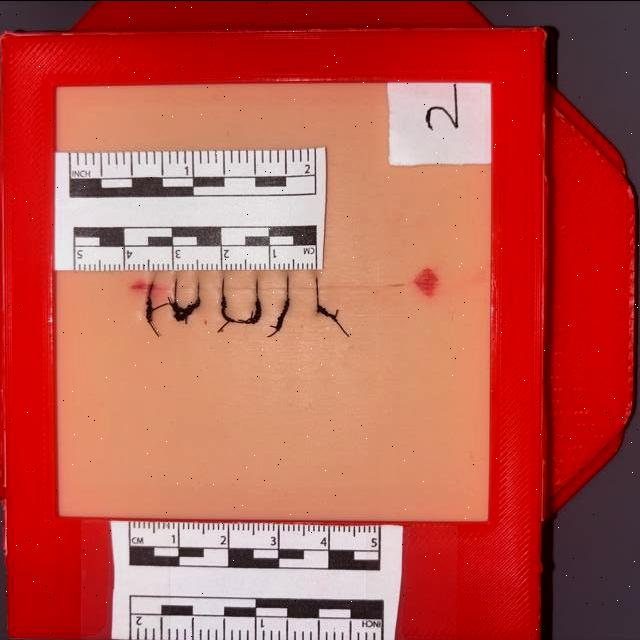incision_line: (145, 278, 430, 292)
scale_marker: (270, 244, 316, 269)
suture_d: (287, 284, 317, 292), (223, 286, 256, 292), (258, 285, 288, 291), (198, 286, 222, 292), (151, 286, 175, 290), (176, 286, 196, 290)
suture_l: (146, 284, 154, 308), (170, 286, 177, 308), (313, 288, 320, 310), (193, 286, 201, 305), (282, 288, 290, 306), (254, 286, 260, 306), (222, 286, 226, 302)
suture_r: (283, 272, 291, 288), (170, 276, 180, 288), (220, 276, 228, 288), (148, 276, 156, 288), (254, 276, 261, 288), (314, 276, 319, 288), (194, 278, 200, 288)
